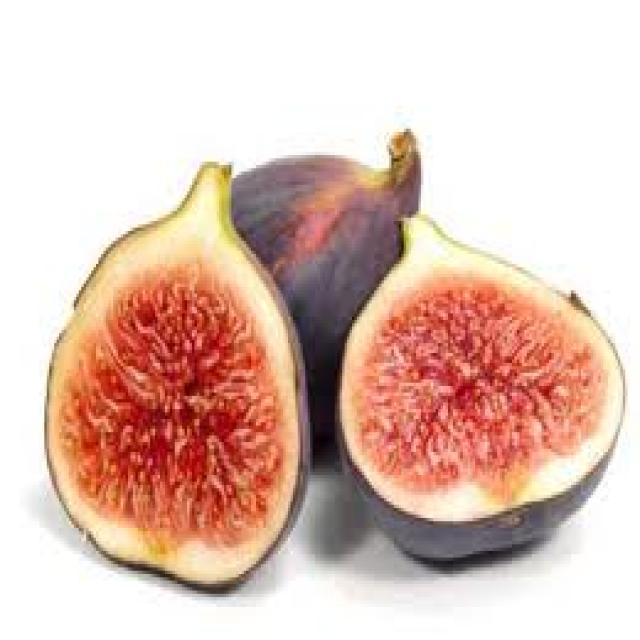Fig: (40, 152, 328, 620), (337, 175, 638, 588)
